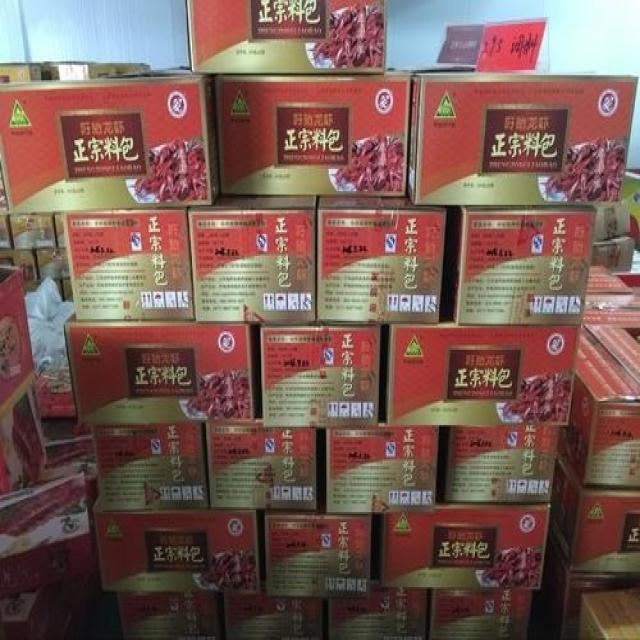box: (0, 73, 220, 215), (407, 73, 640, 207), (212, 68, 411, 198), (65, 309, 253, 423), (385, 324, 582, 425), (444, 205, 598, 324), (93, 493, 262, 596), (189, 195, 320, 323), (317, 193, 444, 324), (63, 203, 196, 321), (378, 502, 552, 589), (186, 0, 388, 73), (557, 326, 640, 490), (261, 326, 383, 427), (543, 459, 640, 575), (88, 422, 210, 510), (325, 423, 439, 512), (206, 420, 316, 509), (444, 423, 561, 502), (265, 514, 371, 594), (425, 587, 539, 640), (326, 584, 430, 640), (219, 592, 328, 640), (122, 591, 225, 640)
